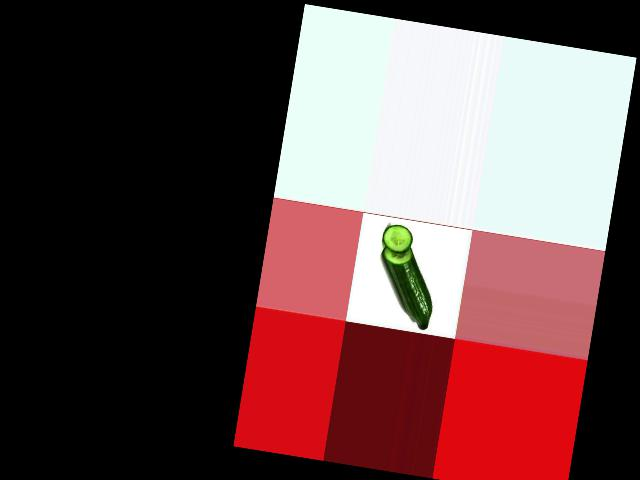cucumber: (371, 241, 441, 330)
